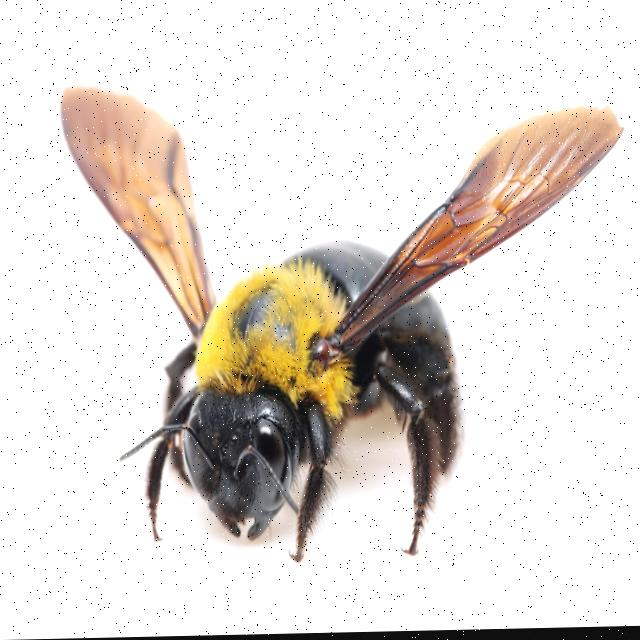Allodapula: (50, 55, 629, 573)
